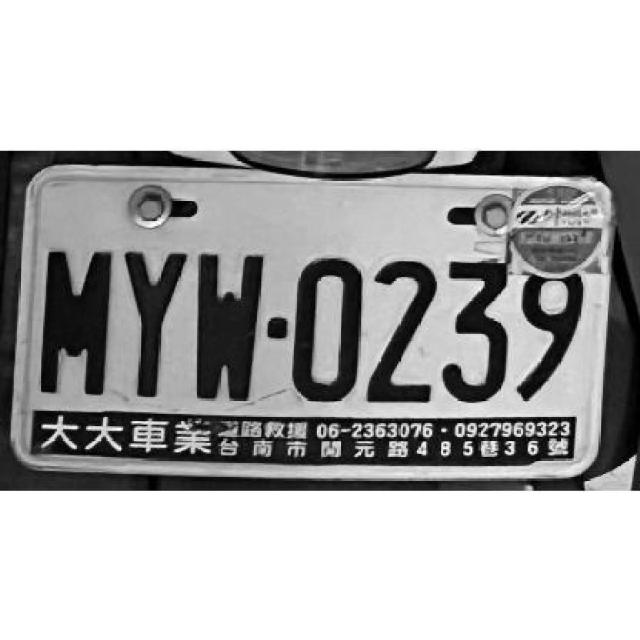-: (269, 317, 289, 338)
0: (292, 254, 363, 400)
2: (368, 257, 435, 401)
3: (443, 258, 512, 402)
9: (514, 271, 584, 397)
M: (37, 246, 114, 402)
W: (196, 251, 266, 400)
Y: (119, 249, 188, 397)
